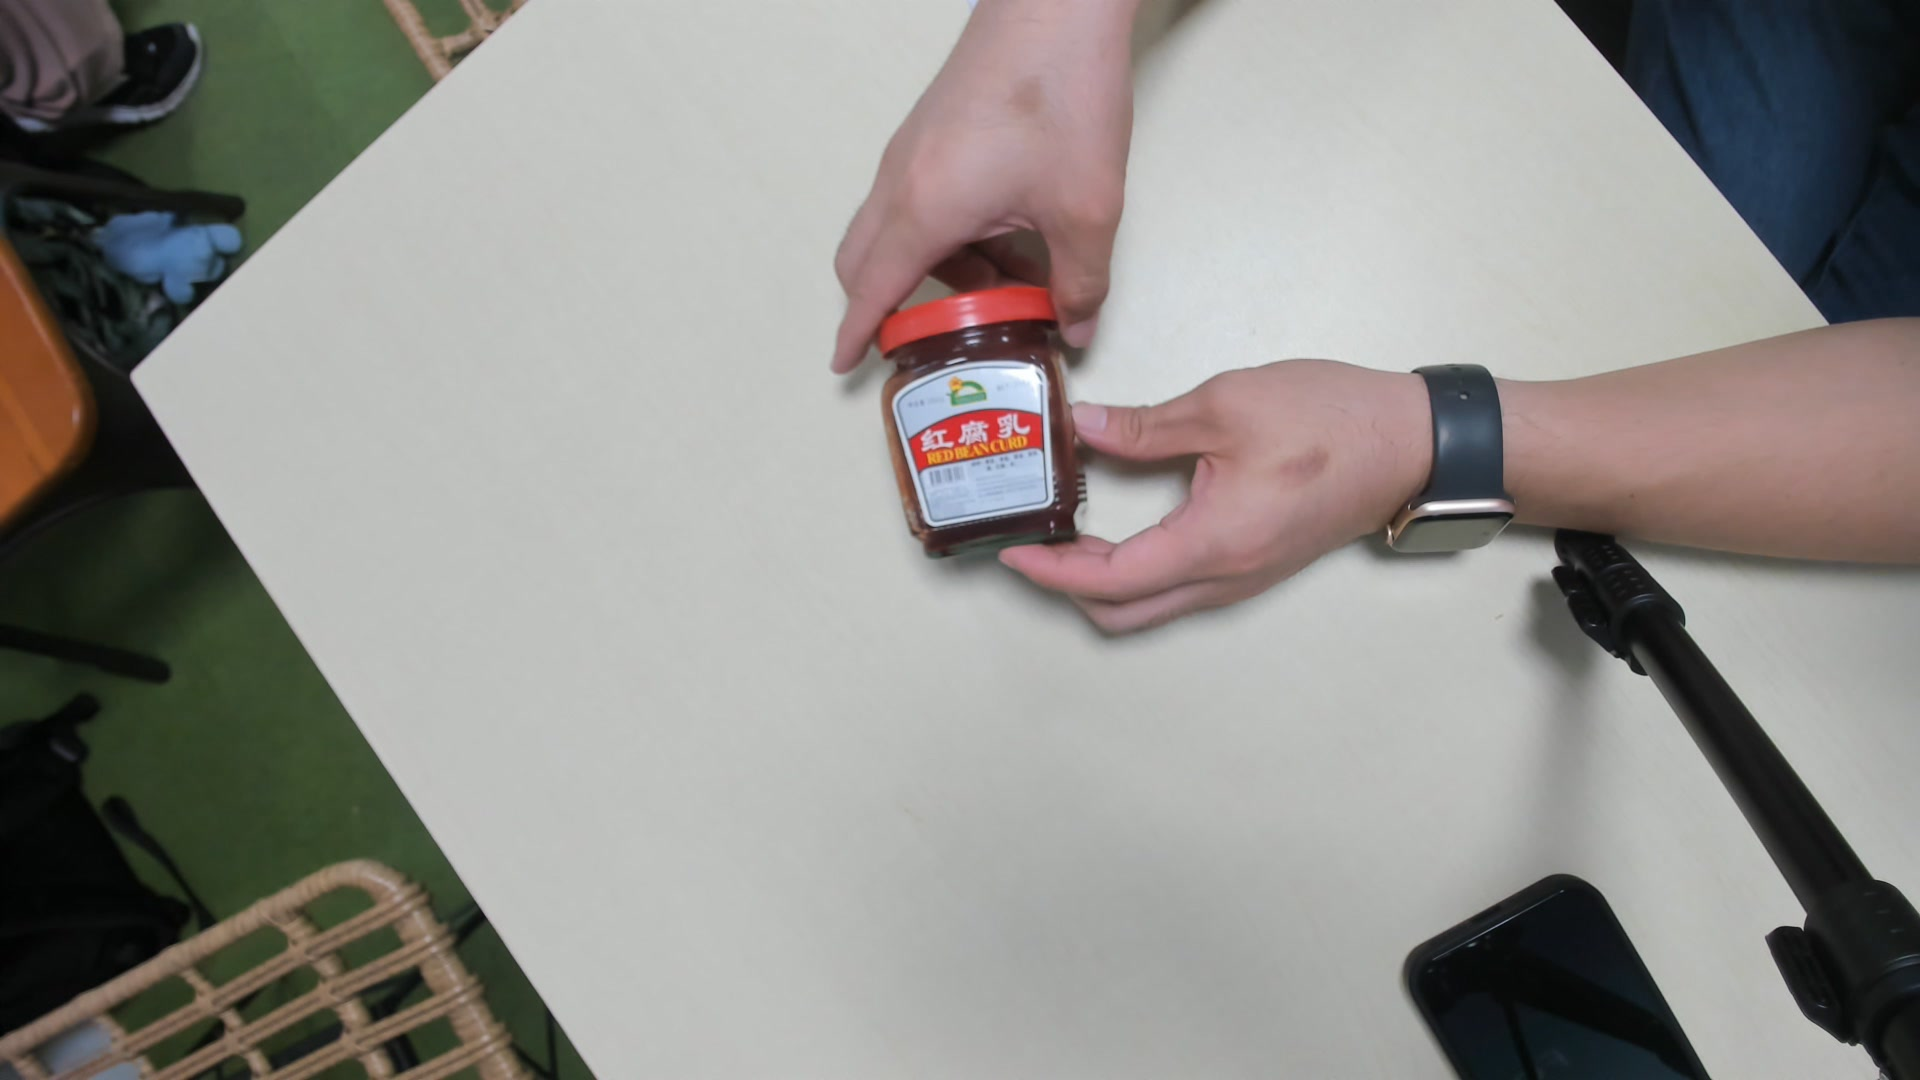OtherSauceDressing_200-299g_NonHalal_NonHealthy: (872, 284, 1093, 570)
